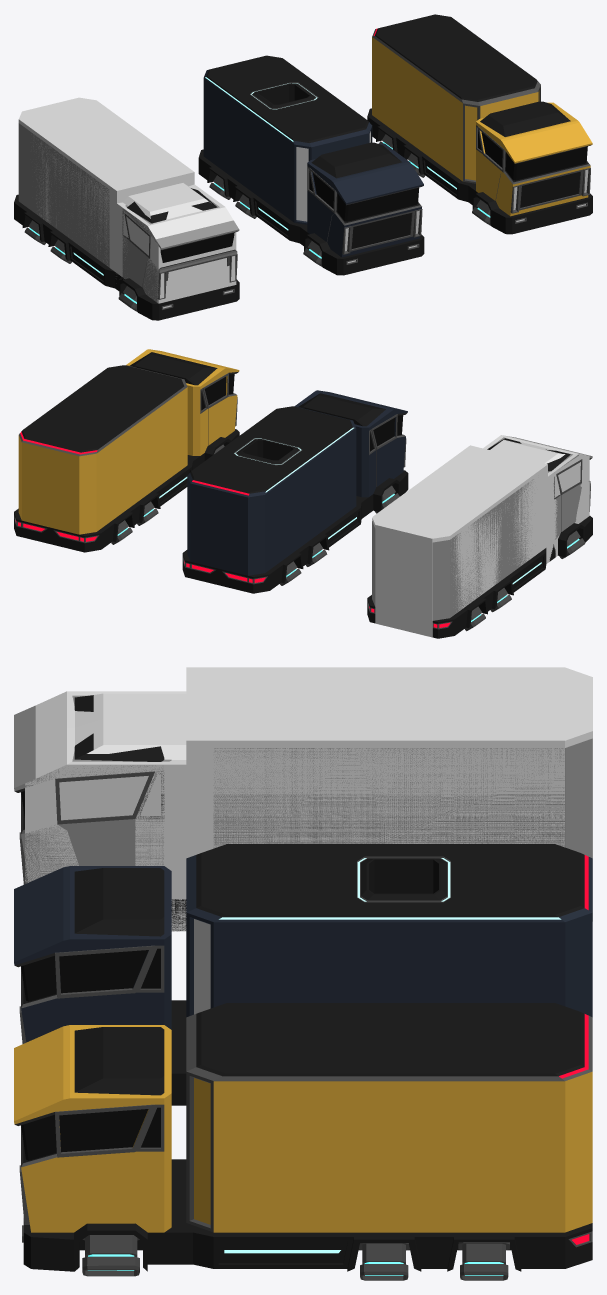
File: TRUCK1.fbx
3 renders of one model, top to bottom at view 1: azimuth 30°, elevation 25°; view 2: azimuth 150°, elevation 25°; view 3: azimuth 270°, elevation 25°, orthographic. The views are drawn at different scales.
Visible parts, largest first — view 1: Cube.001, Cube.002, Cube.003, Cube; view 2: Cube.001, Cube.002, Cube.003, Cube; view 3: Cube.002, Cube.003, Cube.001, Cube.
Part boxes in pixels (<box>): Cube.001: <box>198,55,424,275</box>; Cube.002: <box>367,14,592,234</box>; Cube.003: <box>18,97,236,308</box>; Cube: <box>14,123,239,320</box>; Cube.001: <box>182,390,408,593</box>; Cube.002: <box>14,349,239,552</box>; Cube.003: <box>372,435,589,637</box>; Cube: <box>367,436,592,638</box>; Cube.002: <box>14,1003,592,1280</box>; Cube.003: <box>25,667,592,931</box>; Cube.001: <box>14,844,592,1105</box>; Cube: <box>14,695,592,931</box>.
Size of the model in its own units: 19.28 by 4.35 by 11.01.
